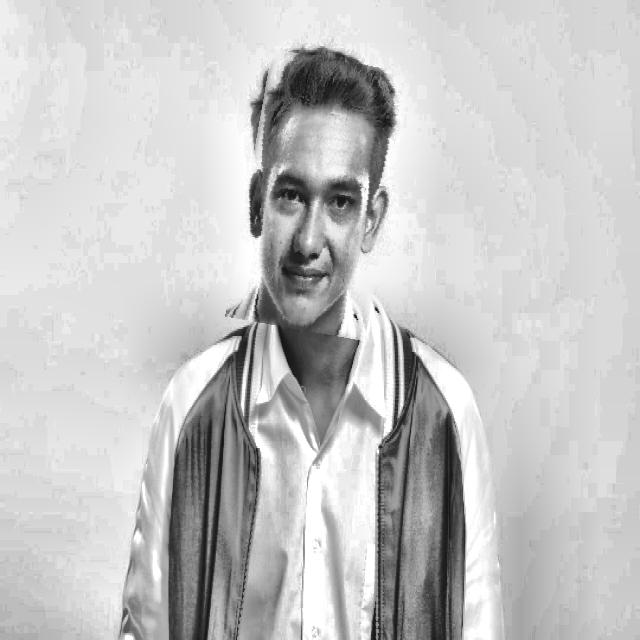happy: (237, 55, 401, 336)
